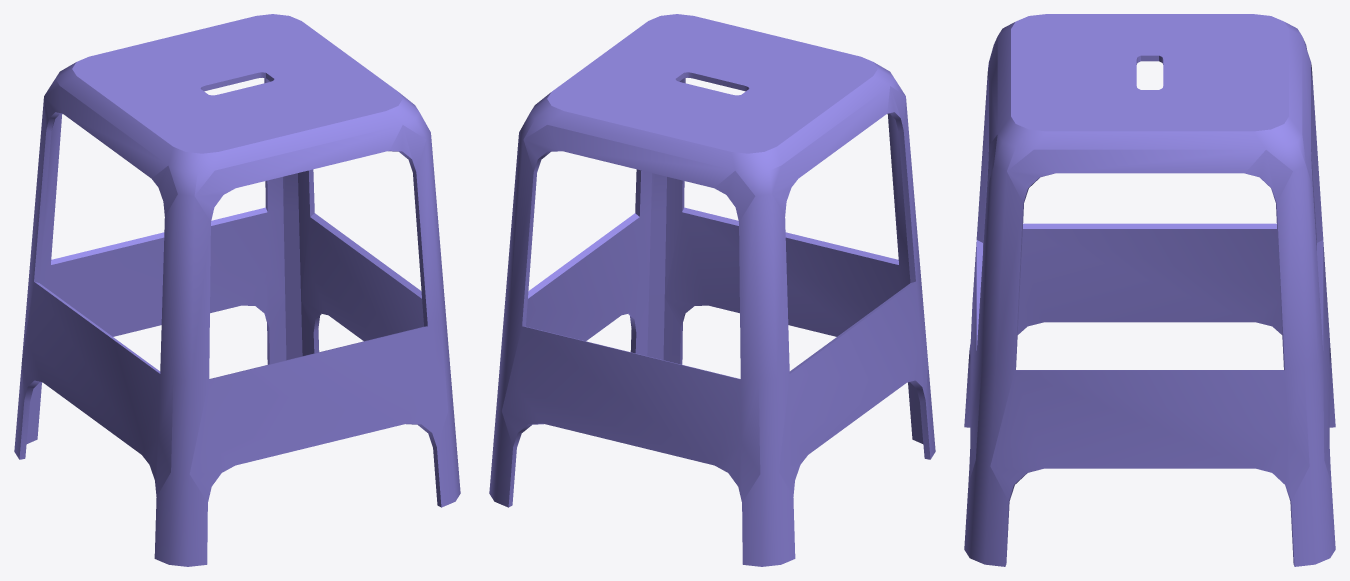
Rendered from Taburete_Lila.fbx.
3 renders of one model, left to right at view 1: azimuth 30°, elevation 25°; view 2: azimuth 150°, elevation 25°; view 3: azimuth 270°, elevation 25°, orthographic. The views are drawn at different scales.
Parts seen in each view (by area): view 1: Taburete; view 2: Taburete; view 3: Taburete.
Boxes of the visible parts, box(x1,y1,x2,y2) form: Taburete: box(14, 14, 460, 566); Taburete: box(489, 14, 935, 566); Taburete: box(964, 14, 1335, 566).
Size of the model in its own units: 231 by 285 by 231.
